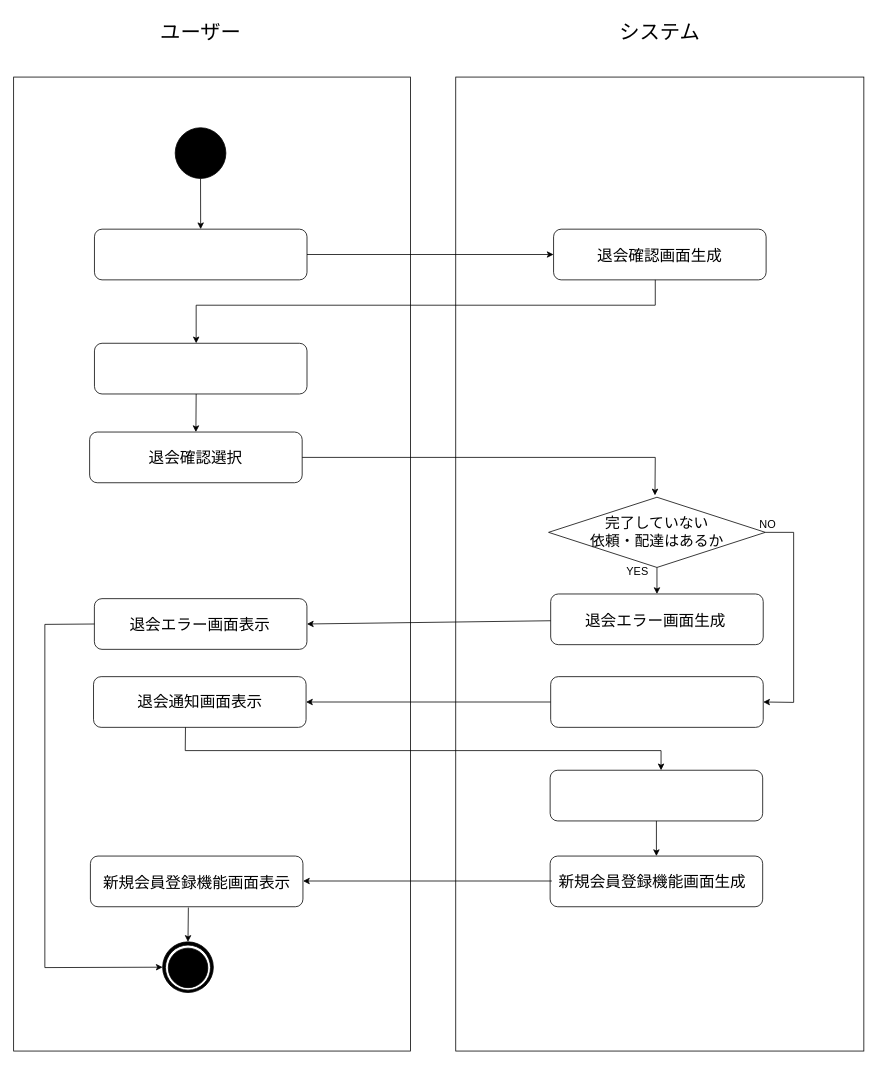
This 877x1065 diagram has some shape labels left out. Here are the shapes that lost their labels. From the top down, the box of each, then its label:
(94, 228, 307, 280): 退会選択
(94, 342, 307, 394): 退会確認画面表示
(550, 676, 763, 727): 退会通知画面生成
(549, 769, 763, 821): データベース更新
